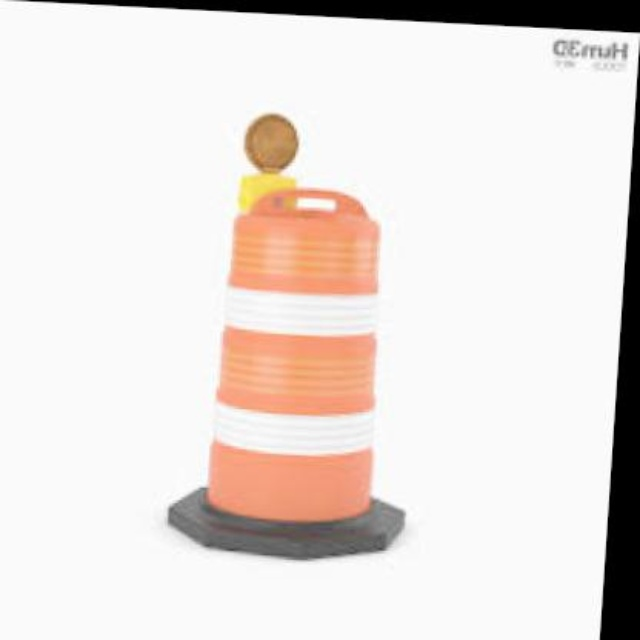obstacle: (203, 186, 392, 528)
